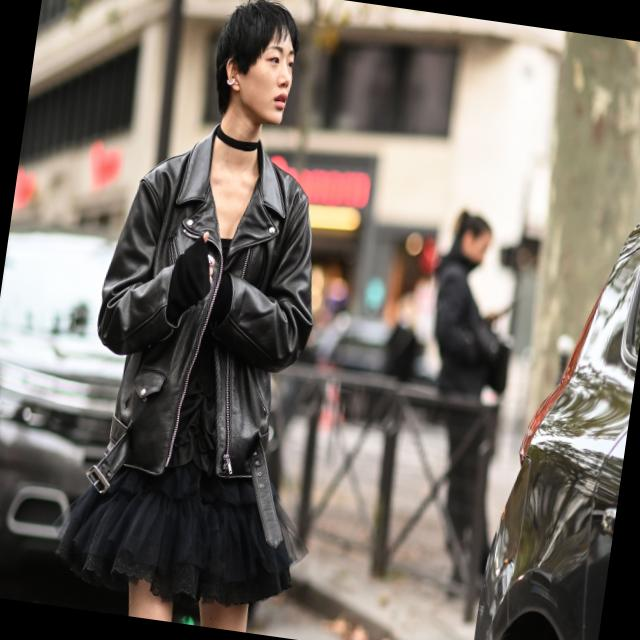Jacket: (72, 108, 347, 507)
